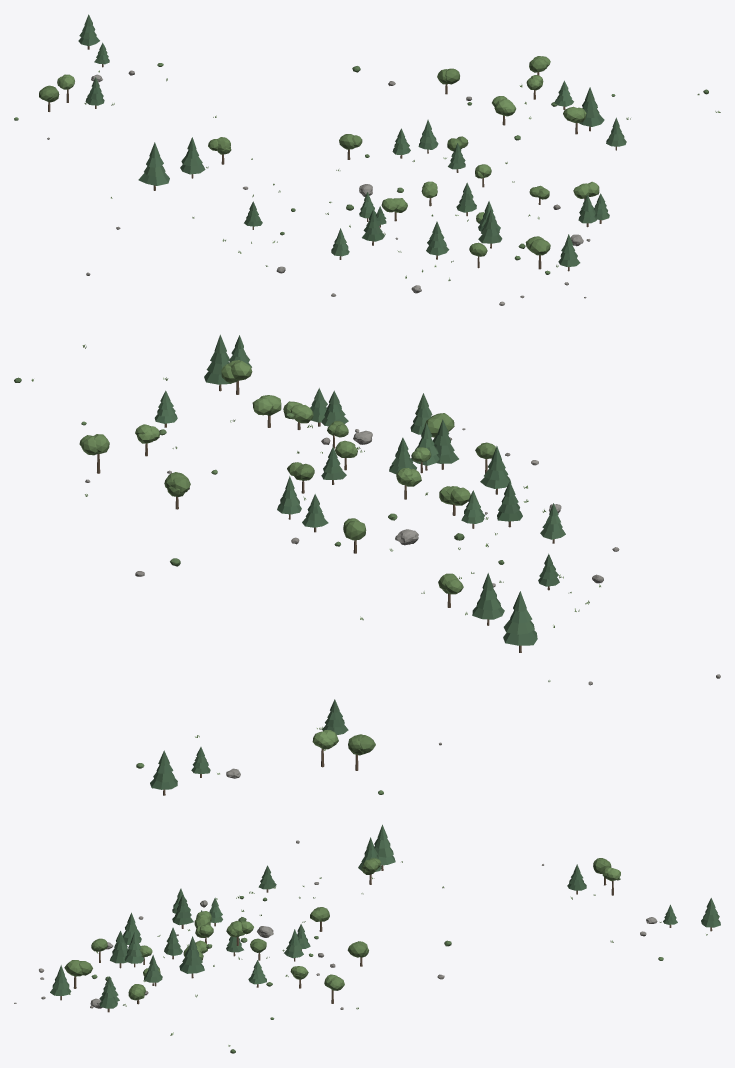
File: arch_land_scatter_c21_22.glb
3 renders of one model, top to bottom at view 1: azimuth 30°, elevation 25°; view 2: azimuth 150°, elevation 25°; view 3: azimuth 270°, elevation 25°, orthographic. The views are drawn at different scales.
Parts seen in each view (by area): view 1: arch_land_scatter_c21_22; view 2: arch_land_scatter_c21_22; view 3: arch_land_scatter_c21_22.
Part boxes in pixels (x1,y1,x2,y2): arch_land_scatter_c21_22: [14, 14, 720, 305]; arch_land_scatter_c21_22: [14, 334, 720, 795]; arch_land_scatter_c21_22: [14, 824, 720, 1053].
Bounding box in the file's own units: 198 × 38.8 × 216.
